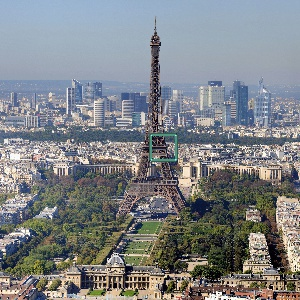square: (148, 132, 179, 162)
